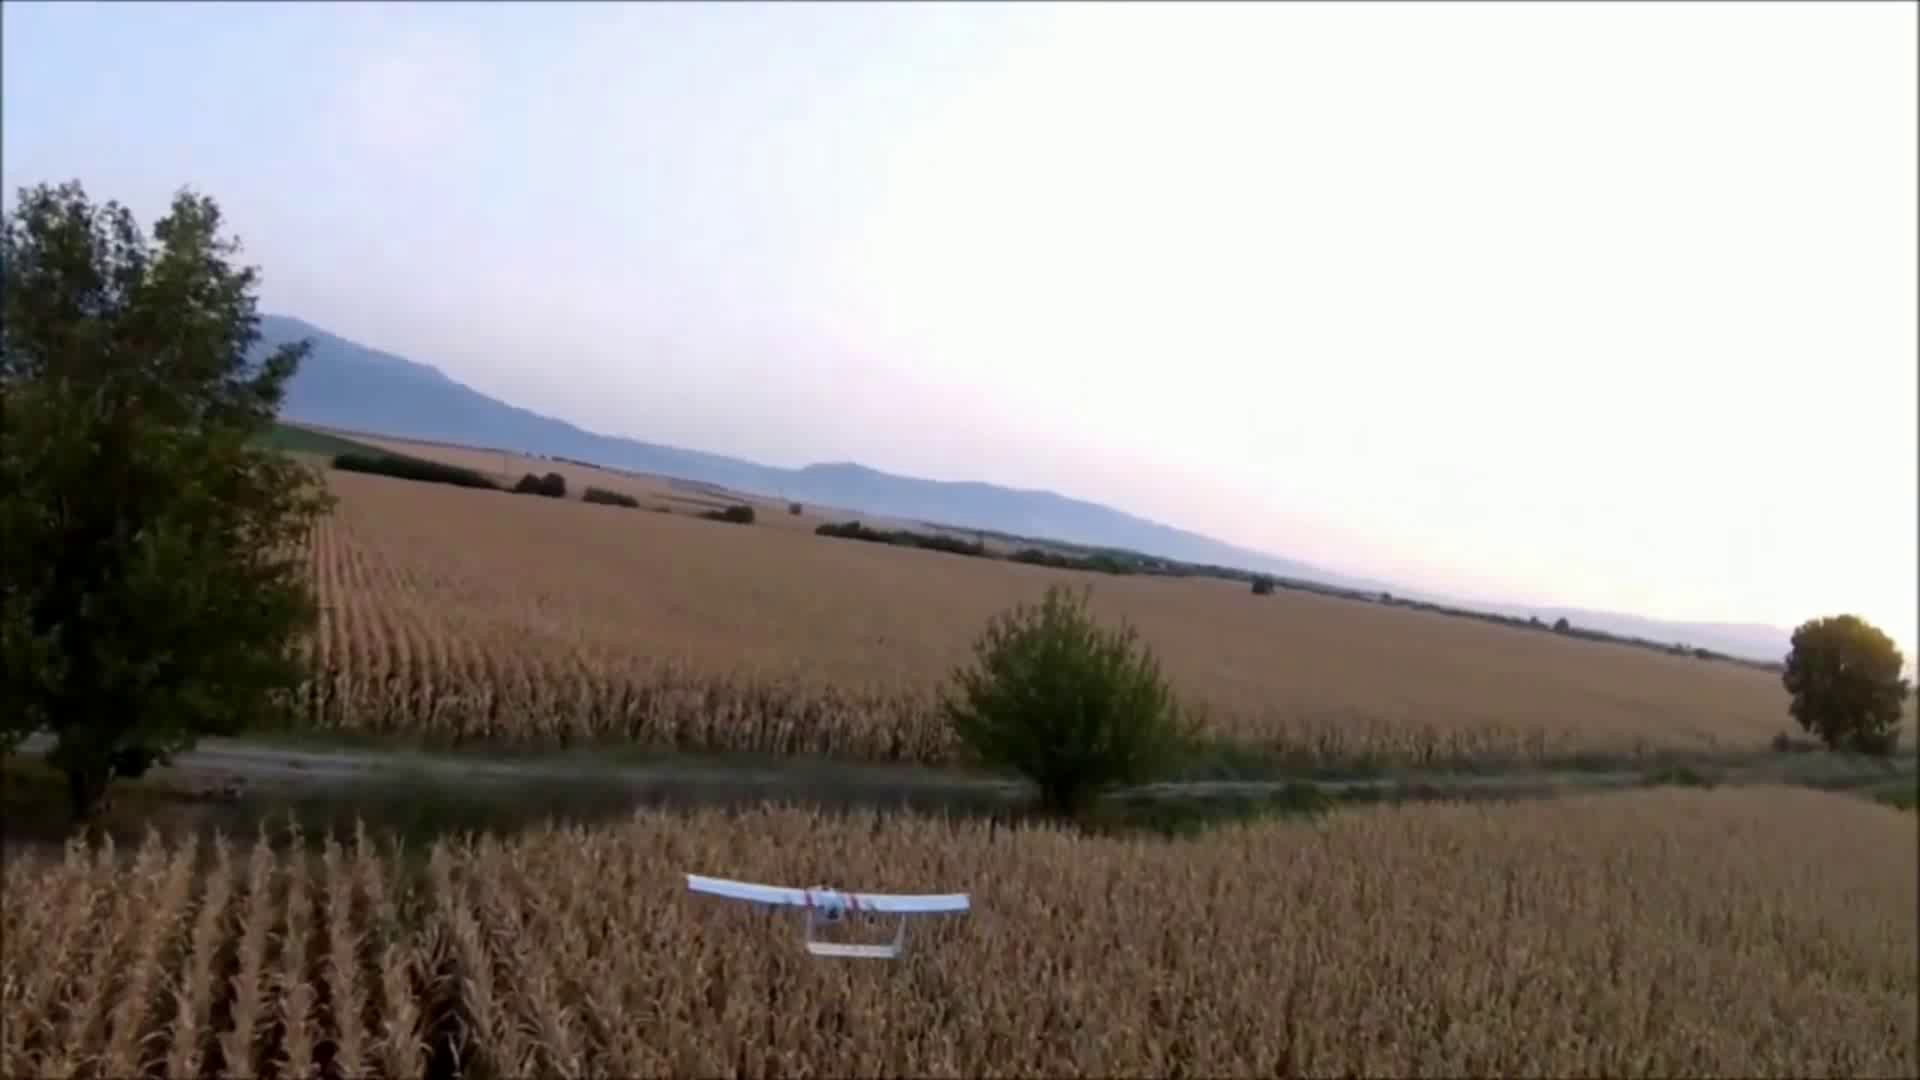airplane: (683, 873, 973, 956)
